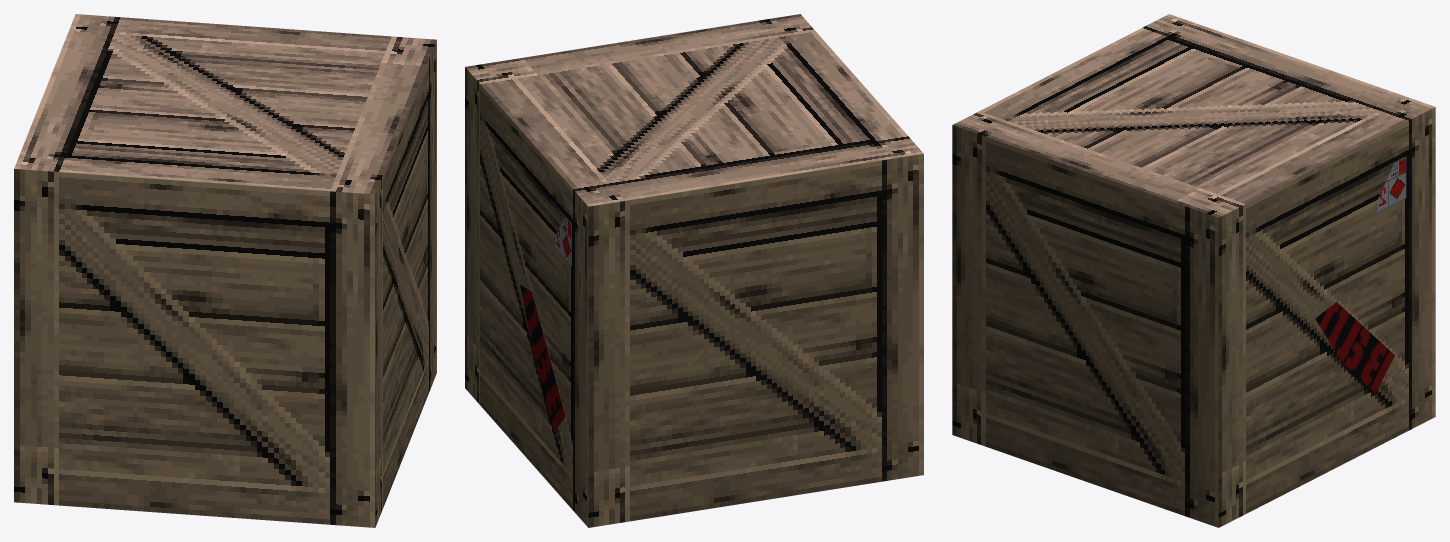
File: primary_086.glb
3 views of the same model, side by side, from view 1: azimuth 30°, elevation 25°; view 2: azimuth 150°, elevation 25°; view 3: azimuth 270°, elevation 25° (orthographic). The views are drawn at different scales.
Parts seen in each view (by area): view 1: Object; view 2: Object; view 3: Object.
Part boxes in pixels (<box>): Object: <box>14,14,436,527</box>; Object: <box>465,14,923,527</box>; Object: <box>952,14,1435,527</box>.
Bounding box in the file's own units: 1.58 × 1.12 × 1.58.
7 materials, 7 textured.
